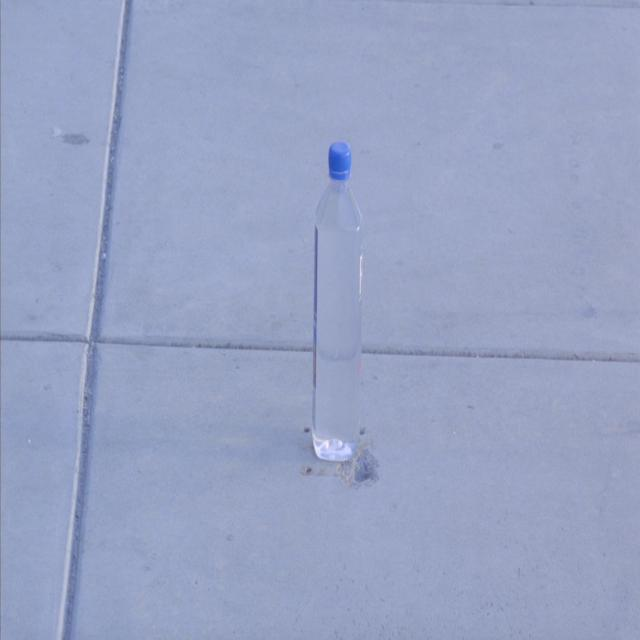bottle: (304, 127, 366, 473)
